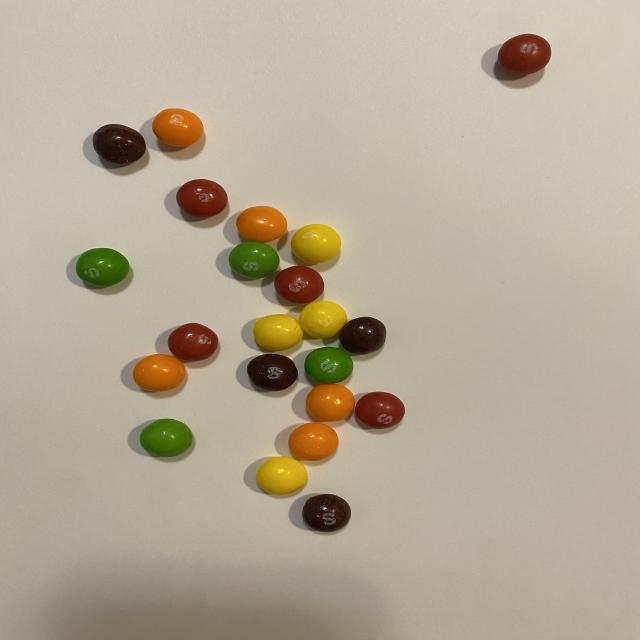smartie: (498, 33, 552, 74), (92, 123, 145, 163), (75, 248, 128, 287), (139, 419, 192, 458), (167, 323, 218, 362), (255, 457, 307, 495), (151, 108, 203, 146), (175, 179, 227, 217), (291, 224, 341, 263), (247, 353, 297, 391), (288, 423, 338, 461), (228, 241, 279, 278), (354, 392, 405, 429), (302, 494, 351, 532), (298, 300, 347, 338), (306, 384, 355, 422), (253, 314, 303, 351), (274, 266, 324, 303), (236, 206, 287, 242), (338, 316, 386, 354), (304, 347, 353, 384)
